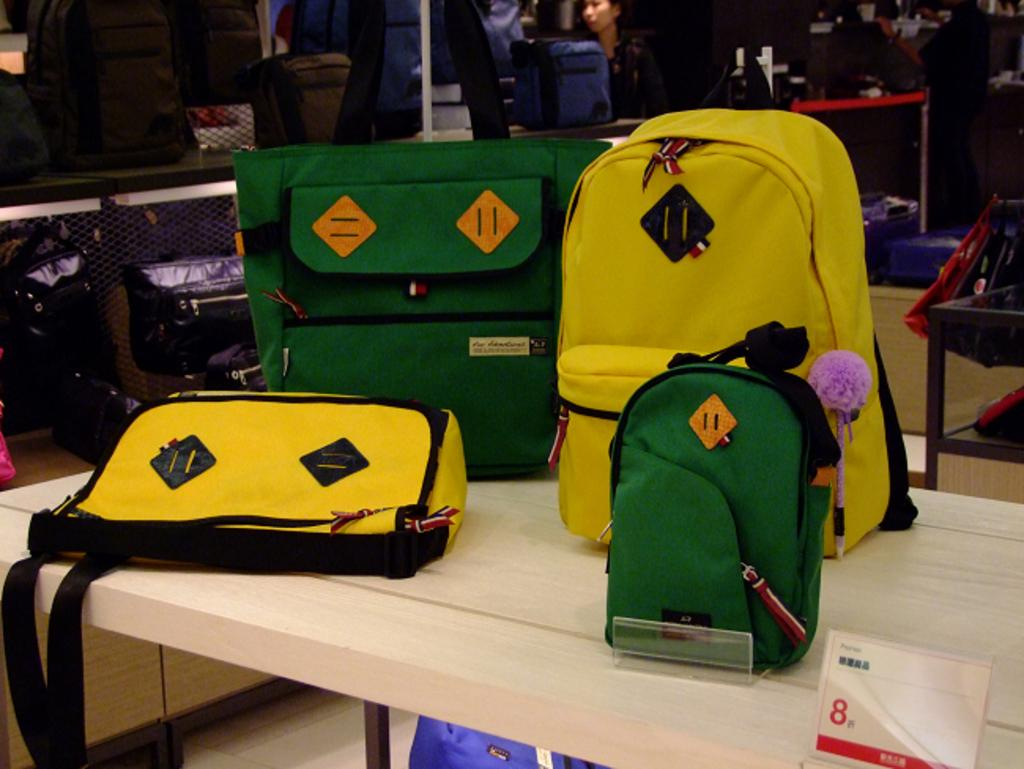Luggage-and-bags: (0, 386, 471, 767), (232, 134, 613, 484), (597, 317, 837, 667), (509, 39, 605, 131)
